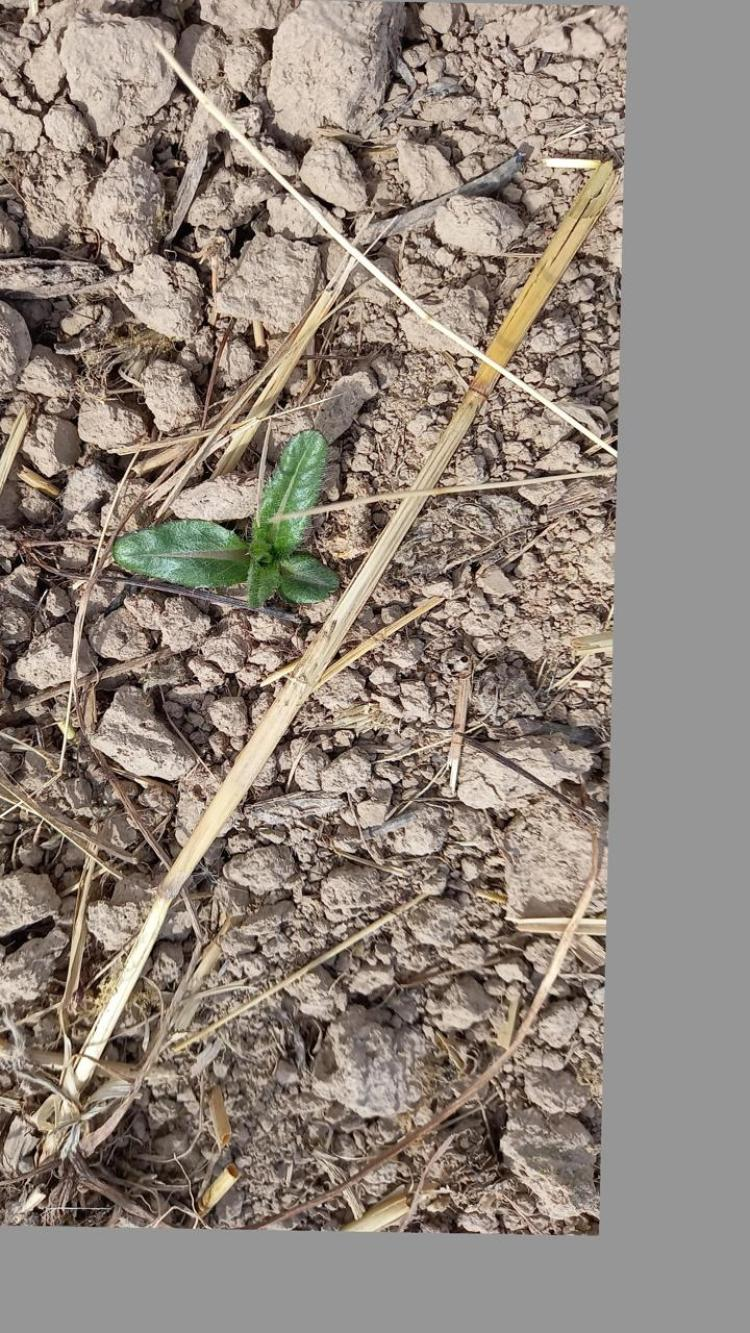bodyak: (110, 428, 343, 612)
